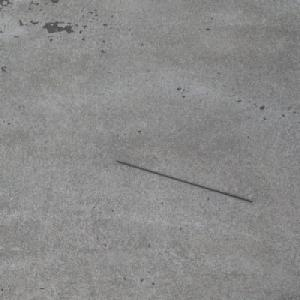LuggagePart: (115, 160, 253, 202)
